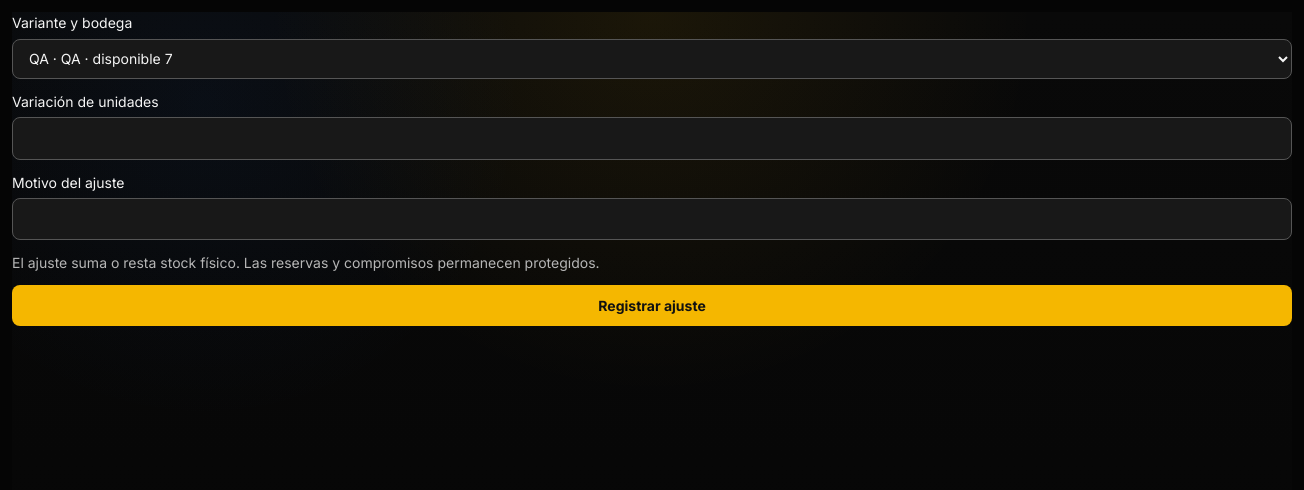
Scenario: INV mutation observability without invented success › a malformed HTTP200 blocks further adjustment until durable state is read
Type "5" into the number field labelled "Variación de unidades" at (652, 138), box [12, 117, 1292, 160]
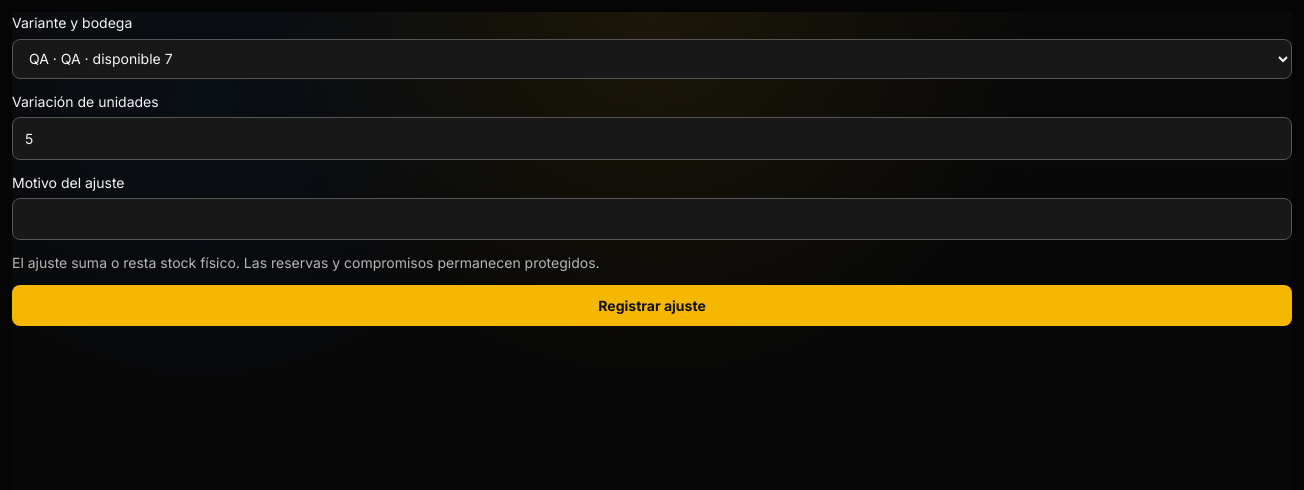
Type "Conteo verificado" into the field labelled "Motivo del ajuste" at (652, 219), box [12, 198, 1292, 240]
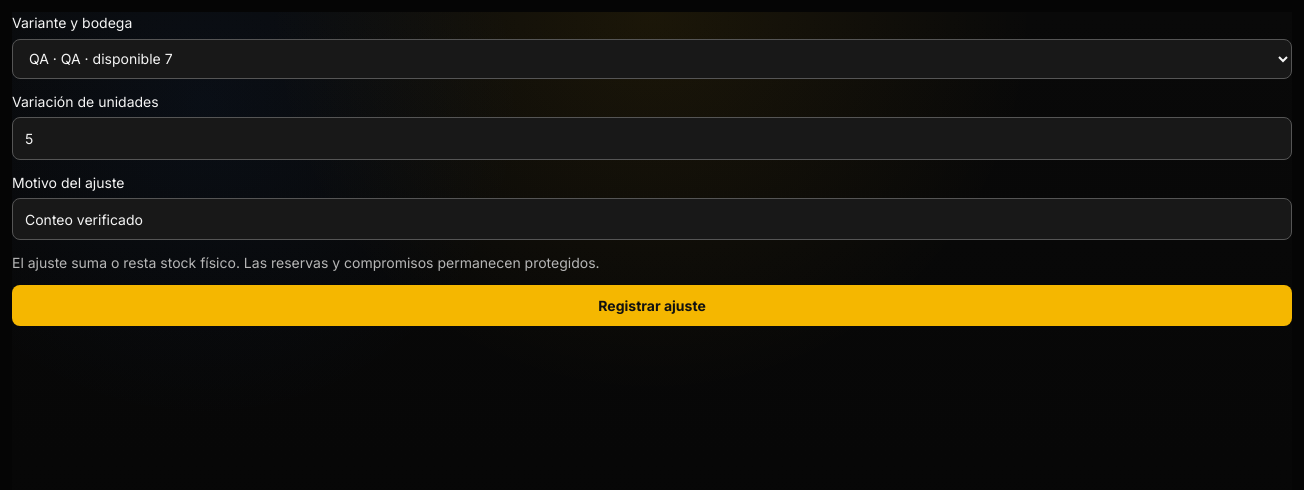
Submit the form named "Ajustar stock"
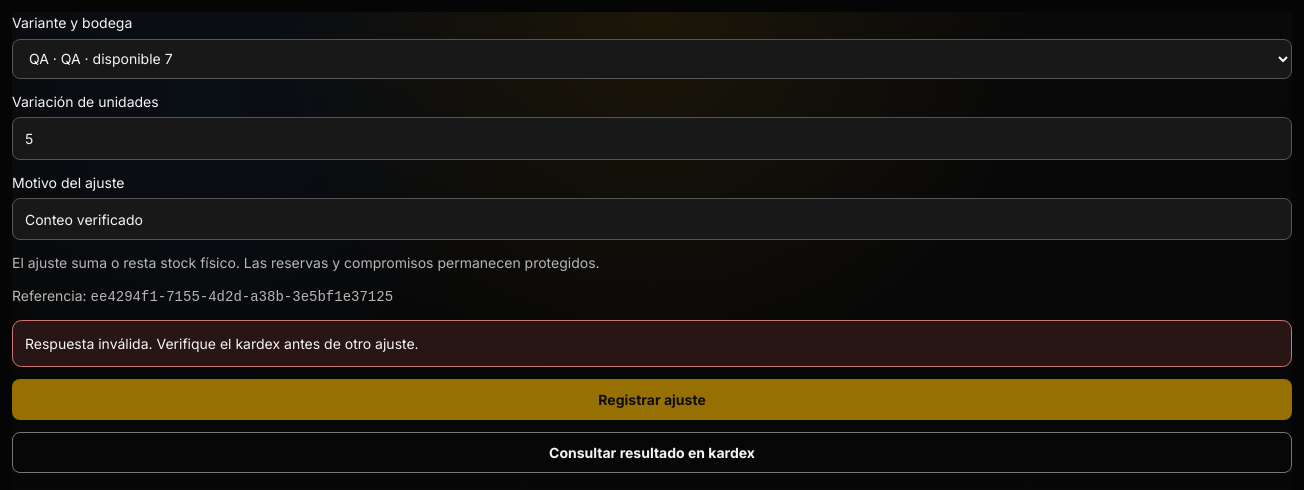
Check: the message "Respuesta inválida. Verifique el kardex antes de otro ajuste." is shown, box [12, 320, 1292, 367]
Check: the button "Registrar ajuste" is disabled, box [12, 379, 1292, 420]
